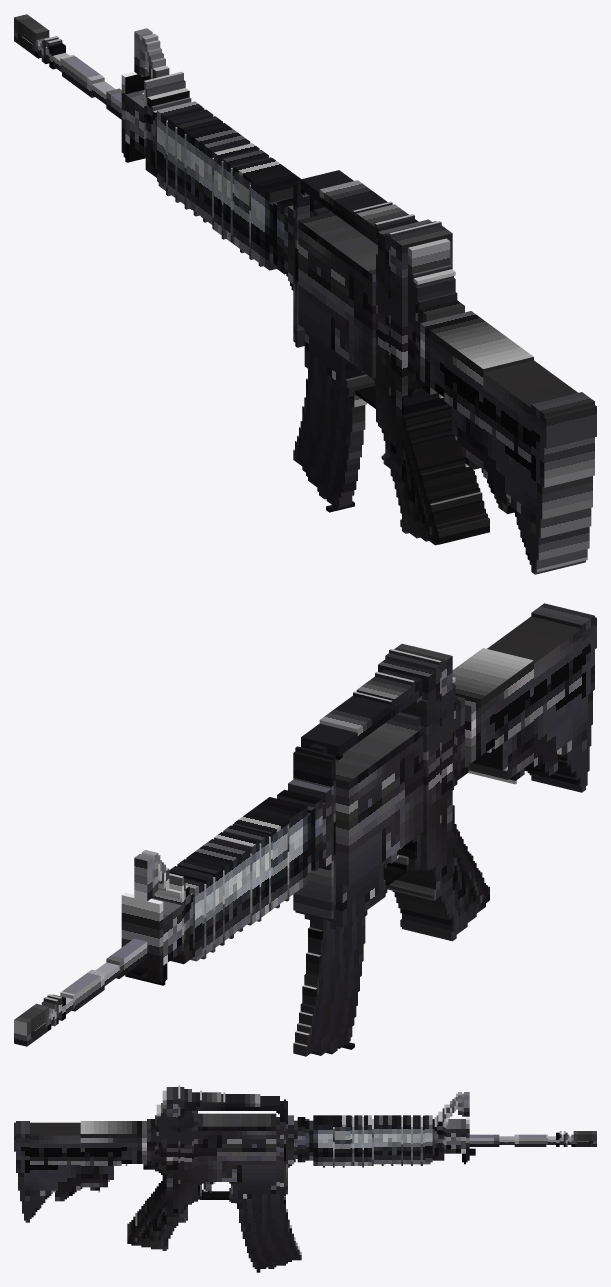
3 views of the same model, one above another, from view 1: azimuth 30°, elevation 25°; view 2: azimuth 150°, elevation 25°; view 3: azimuth 270°, elevation 25° (orthographic). The views are drawn at different scales.
Visible parts, largest first — view 1: download_40, download_73, download_1, download_70, download_69, download_46, download_71, download_42, download_115, download_6, download_5, download_72 (+27 smaller); view 2: download_40, download_73, download_70, download_1, download_46, download_23, download_33, download_71, download_6, download_42, download_14, download_69 (+29 smaller); view 3: download_40, download_73, download_70, download_1, download_46, download_71, download_42, download_6, download_130, download_69, download_66, download_2 (+24 smaller).
Part boxes in pixels (left/top/right/bottom): download_40: left=298, top=212, right=377, bottom=378; download_73: left=483, top=360, right=577, bottom=510; download_1: left=390, top=225, right=452, bottom=483; download_70: left=444, top=328, right=533, bottom=429; download_69: left=531, top=392, right=594, bottom=487; download_46: left=186, top=123, right=250, bottom=223; download_71: left=420, top=311, right=494, bottom=396; download_42: left=251, top=170, right=300, bottom=270; download_115: left=531, top=476, right=592, bottom=519; download_6: left=378, top=219, right=431, bottom=430; download_5: left=408, top=238, right=450, bottom=397; download_72: left=544, top=405, right=596, bottom=448; download_40: left=335, top=719, right=423, bottom=886; download_73: left=487, top=616, right=581, bottom=767; download_70: left=452, top=648, right=533, bottom=748; download_1: left=394, top=643, right=452, bottom=901; download_46: left=186, top=839, right=250, bottom=939; download_23: left=293, top=751, right=333, bottom=919; download_33: left=121, top=892, right=163, bottom=981; download_71: left=454, top=679, right=494, bottom=762; download_6: left=378, top=659, right=435, bottom=871; download_42: left=251, top=797, right=307, bottom=896; download_14: left=319, top=695, right=390, bottom=742; download_69: left=531, top=603, right=594, bottom=698; download_40: left=198, top=1113, right=276, bottom=1181; download_73: left=30, top=1122, right=80, bottom=1190; download_70: left=80, top=1121, right=121, bottom=1165; download_1: left=166, top=1087, right=178, bottom=1225; download_46: left=374, top=1115, right=401, bottom=1163; download_71: left=121, top=1121, right=146, bottom=1163; download_42: left=313, top=1115, right=332, bottom=1165; download_6: left=184, top=1089, right=191, bottom=1204; download_130: left=233, top=1185, right=276, bottom=1202; download_69: left=16, top=1121, right=29, bottom=1172; download_66: left=446, top=1119, right=465, bottom=1153; download_2: left=180, top=1087, right=184, bottom=1222.
Bounding box in the file's own units: 0.0505 × 0.3185 × 0.9493.
1 material, 1 textured.
